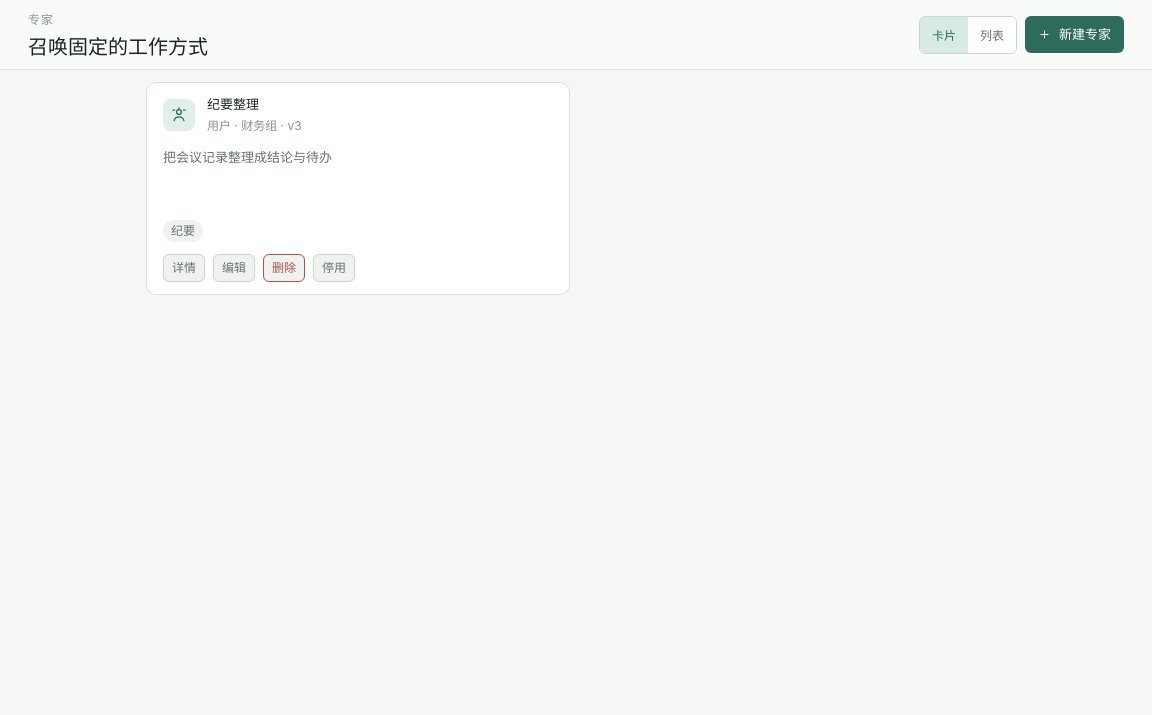
Test: ExpertsPage 的整页配置交互 › 卡片编辑先读取当前修订，再显示作者与用途标签字段
Click the button "编辑": (234, 268) top-left (213, 254), bottom-right (255, 282)
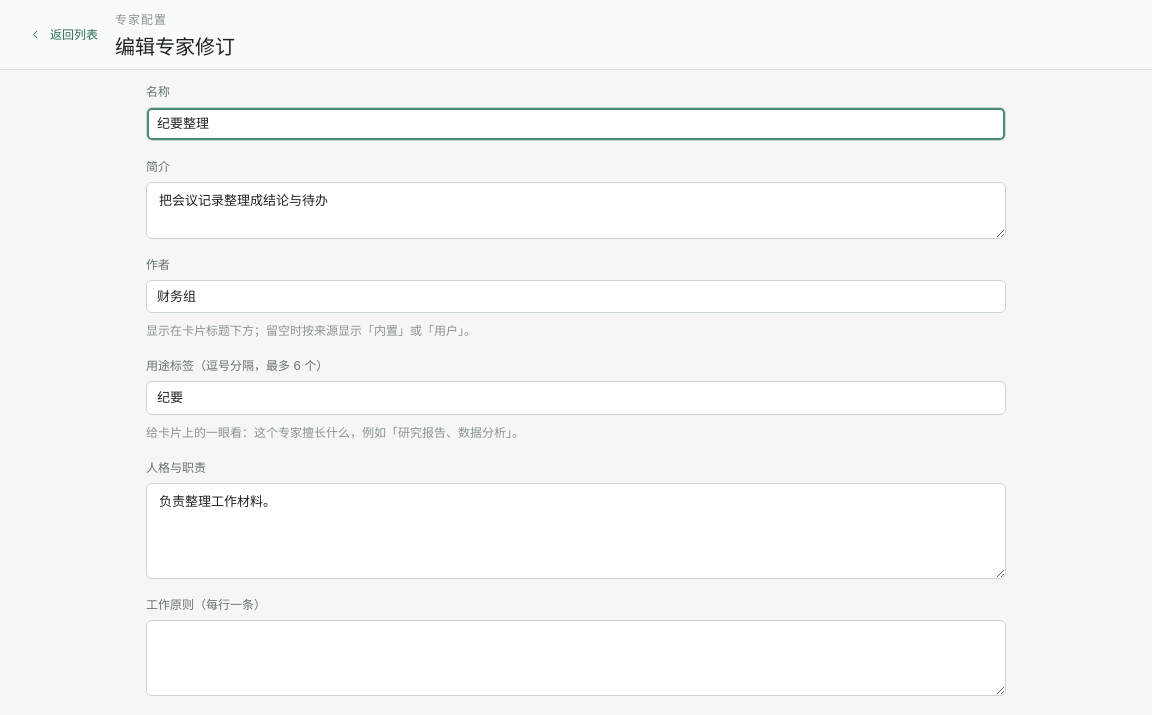
Check: the field labelled "作者" is shown, box top-left (146, 280), bottom-right (1006, 313)
Check: the field labelled "用途标签（逗号分隔，最多 6 个）" is shown, box top-left (146, 381), bottom-right (1006, 415)
